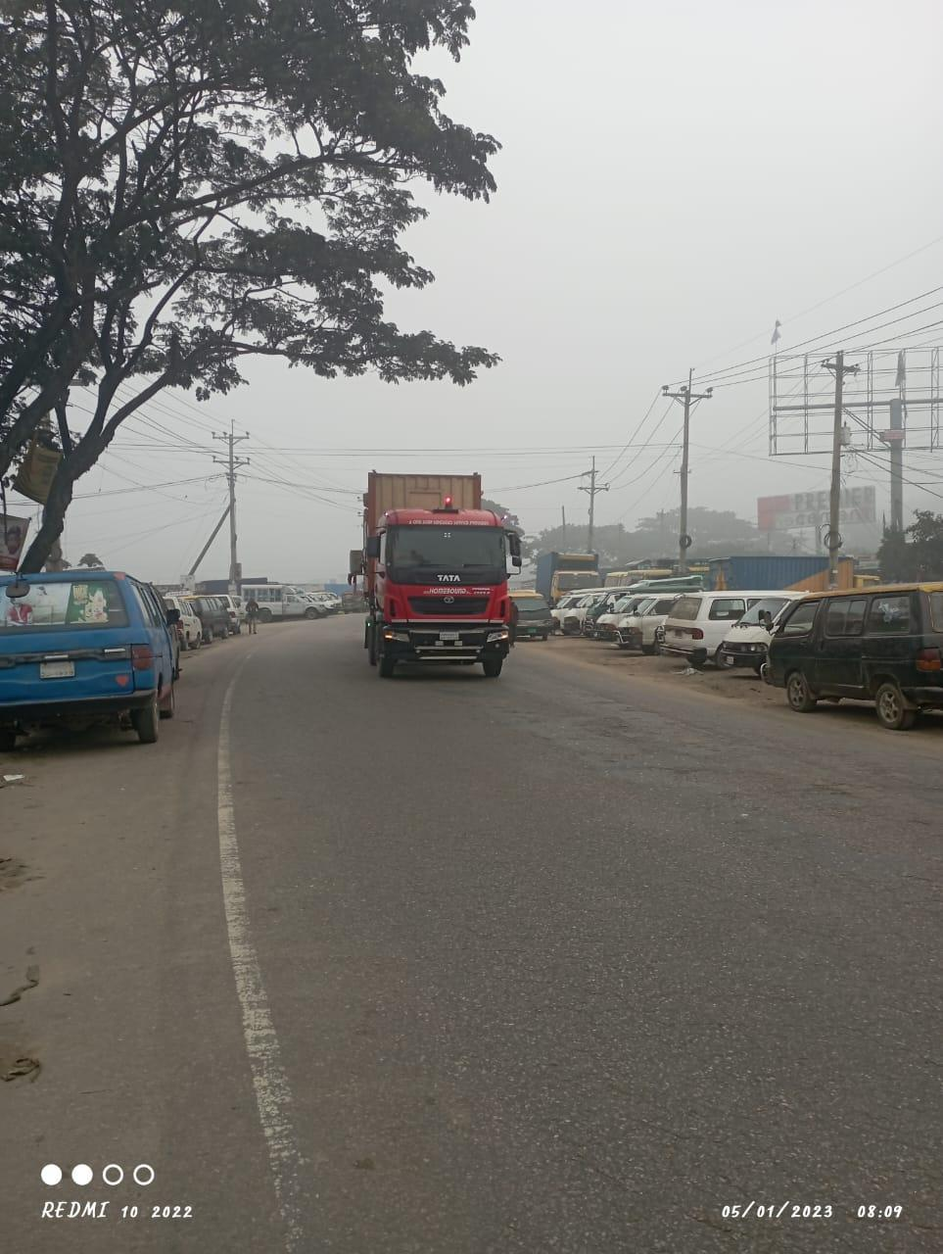Car: (4, 561, 186, 746), (762, 576, 936, 734), (235, 581, 325, 623), (513, 579, 561, 653)
Truck: (350, 461, 535, 686)
